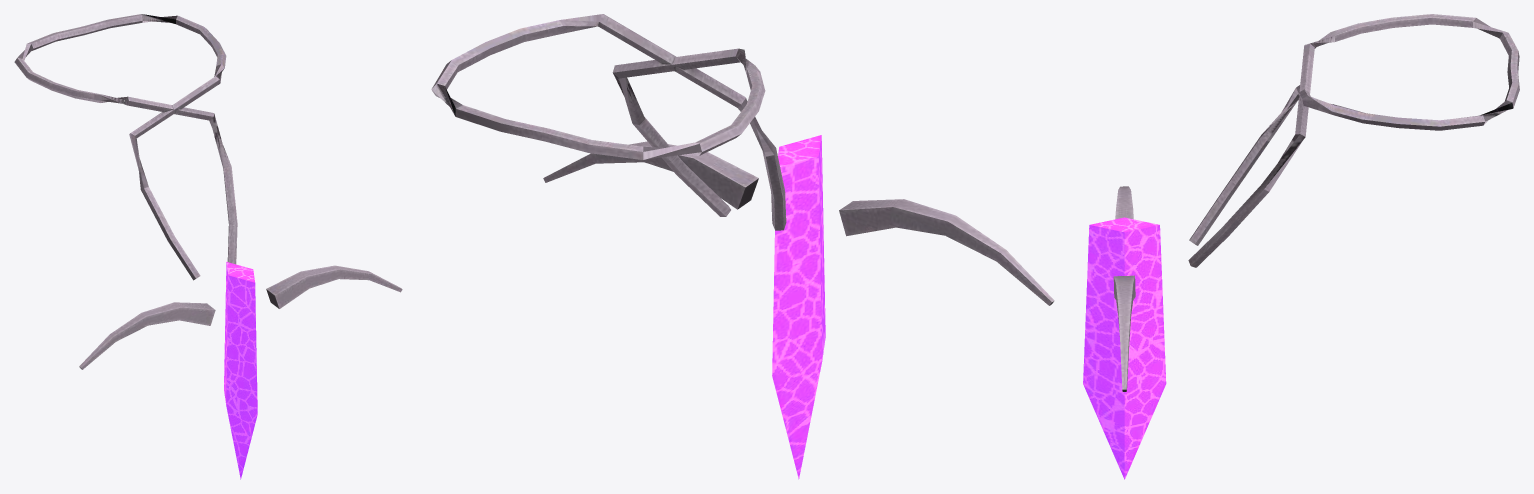
File: Amuleto_da_Sombra_nivel100.glb
3 renders of one model, left to right at view 1: azimuth 30°, elevation 25°; view 2: azimuth 150°, elevation 25°; view 3: azimuth 270°, elevation 25°, orthographic. The views are drawn at different scales.
Visible parts, largest first — view 1: amuleto_da_sombra_nivel100; view 2: amuleto_da_sombra_nivel100; view 3: amuleto_da_sombra_nivel100.
Part boxes in pixels (box(x1,y1,x2,y2)): amuleto_da_sombra_nivel100: box(14, 14, 402, 479); amuleto_da_sombra_nivel100: box(431, 14, 1054, 479); amuleto_da_sombra_nivel100: box(1083, 14, 1519, 479).
Size of the model in its own units: 0.2776 by 0.278 by 0.2656.
Materials: 1 (1 with a texture image).
